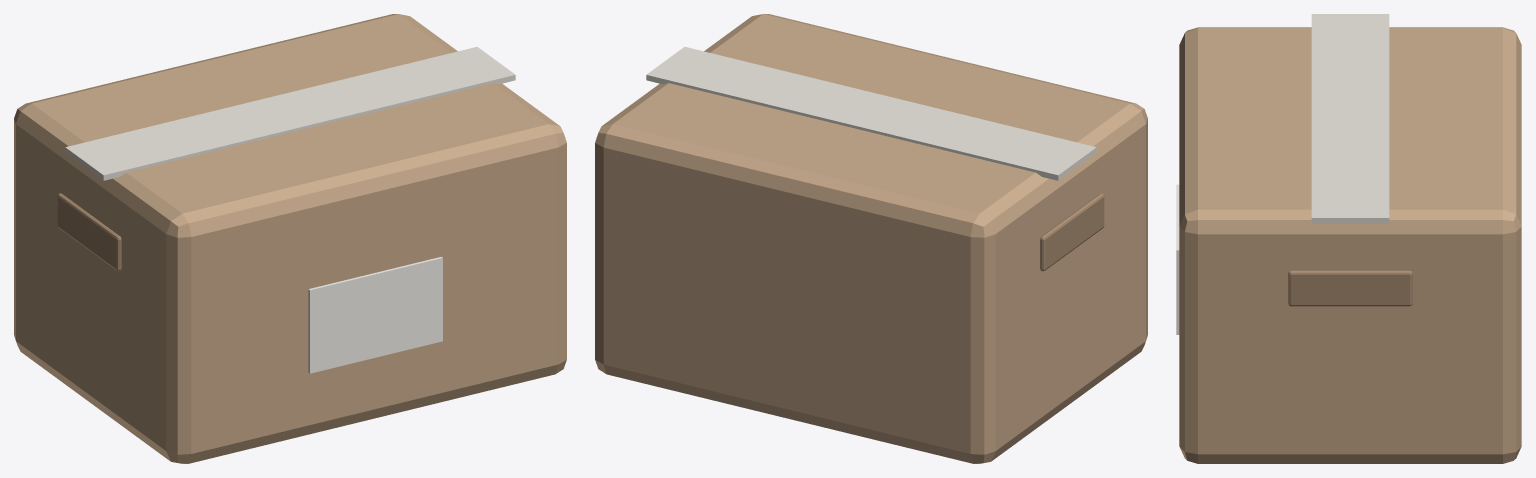
3 views of the same model, side by side, from view 1: azimuth 30°, elevation 25°; view 2: azimuth 150°, elevation 25°; view 3: azimuth 270°, elevation 25° (orthographic).
Parts seen in each view (by area): view 1: Box; view 2: Box; view 3: Box.
Boxes of the visible parts, x1=… form: Box: x1=14, y1=14, x2=566, y2=463; Box: x1=595, y1=14, x2=1147, y2=463; Box: x1=1176, y1=14, x2=1521, y2=463.
Bounding box in the file's own units: 0.31 × 0.182 × 0.222.
